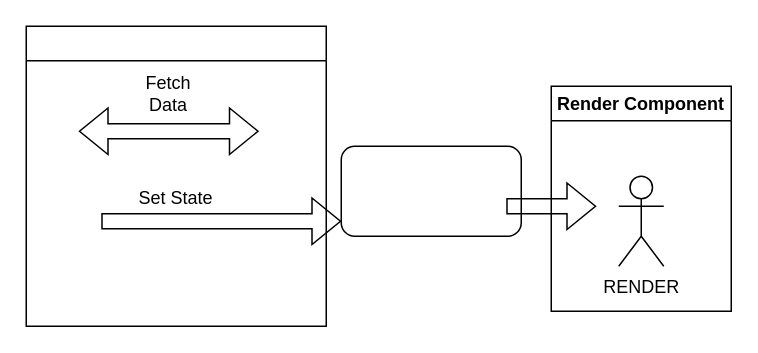
This 758x353 diagram has some shape labels left out. The shapes that lost their labels are listed below. From the top down, each one's box as (x1, y1, x2, y2) in pixels, then its label:
(25, 25, 326, 326): Higher Order Component
(340, 145, 521, 236): DATA STORE
